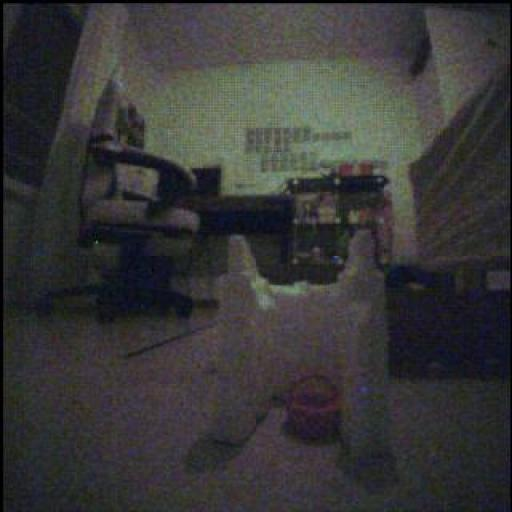basket: (288, 375, 341, 441)
